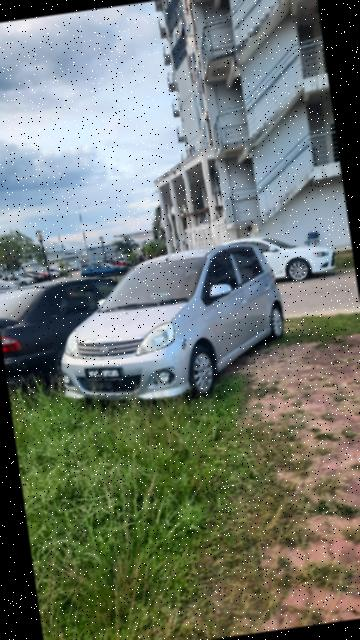License_Plate: (82, 362, 131, 389)
car: (47, 234, 297, 415)
